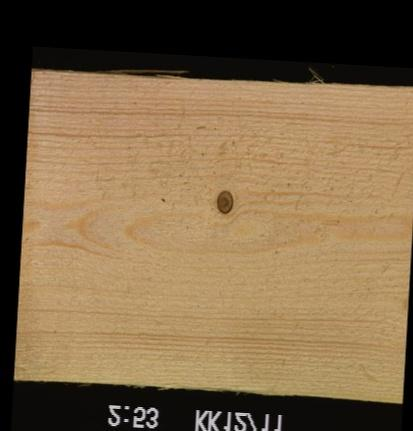dry_knot: (212, 187, 234, 216)
